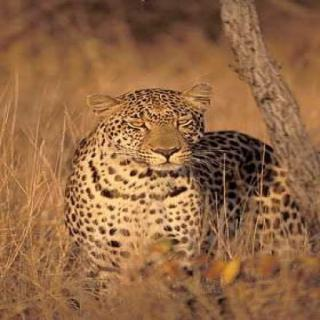Leopard: (66, 87, 274, 279)
